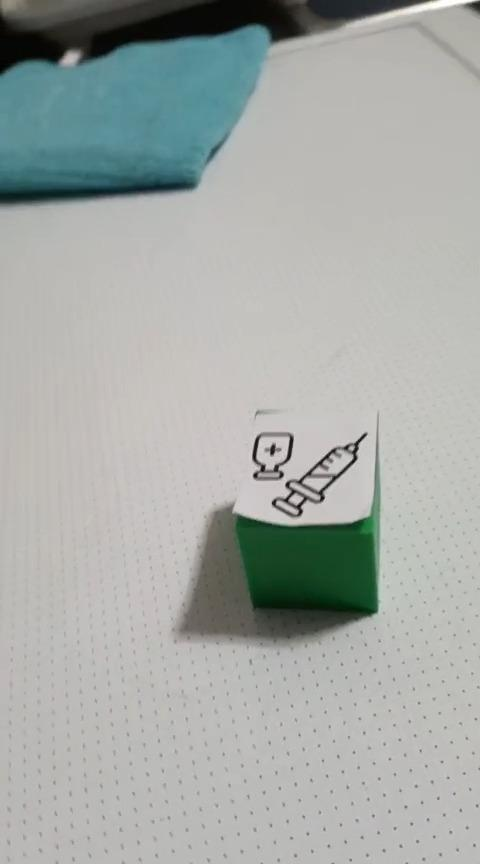antiseptic cream: (230, 403, 382, 614)
